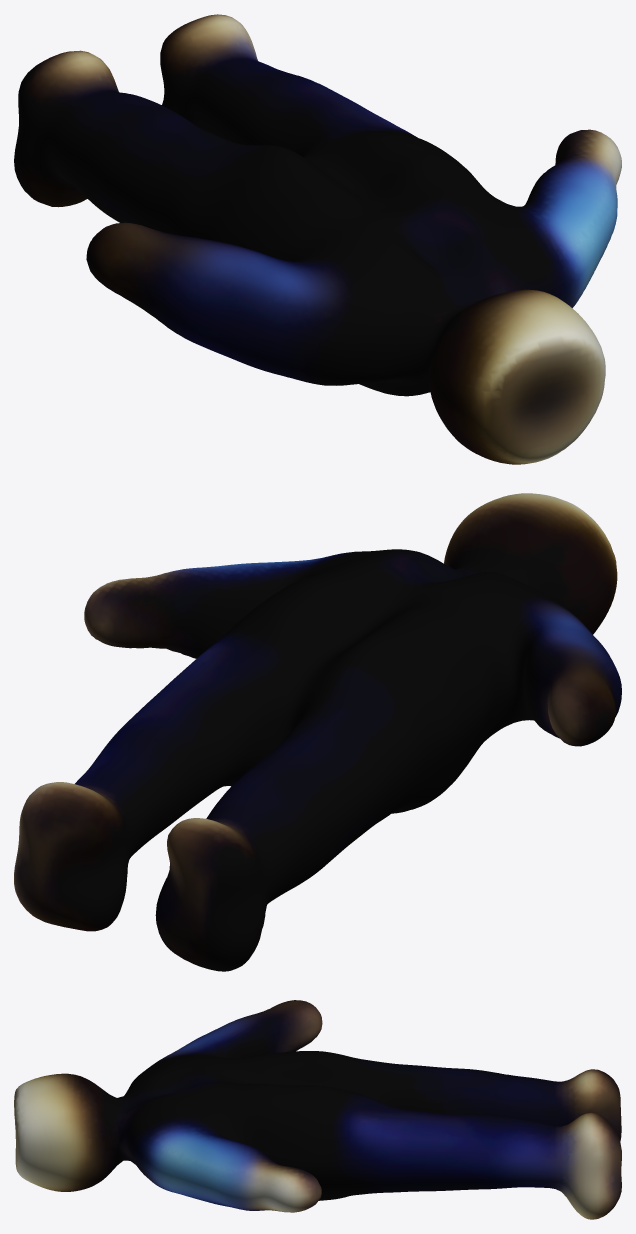
The model's file is grandfather.glb.
The picture shows the model from 3 angles, top to bottom: view 1: azimuth 30°, elevation 25°; view 2: azimuth 150°, elevation 25°; view 3: azimuth 270°, elevation 25°; orthographic projection. The views are drawn at different scales.
Size of the model in its own units: 0.6832 by 0.2306 by 0.9995.
